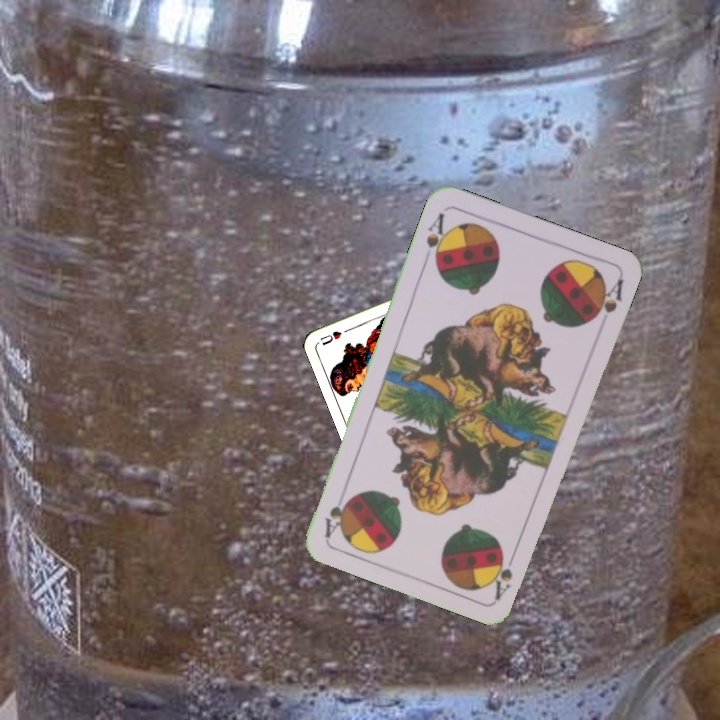SA: (422, 209, 452, 268), (490, 544, 520, 601)
